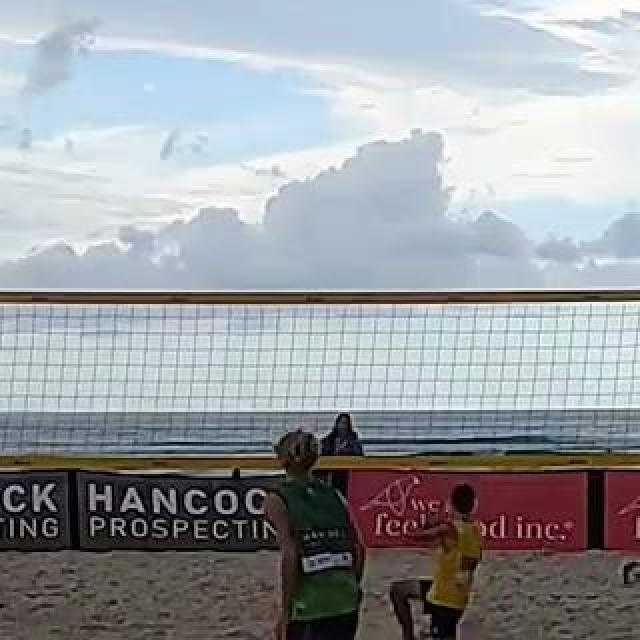volleyball: (614, 556, 640, 588)
